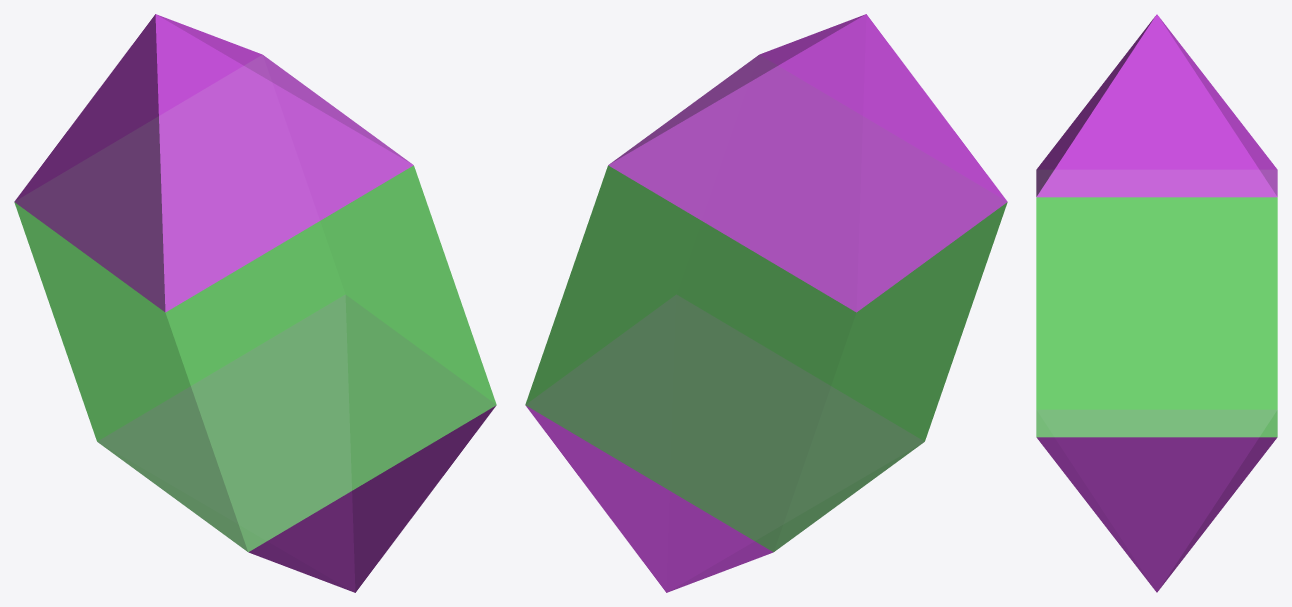
The model's file is j15_elongated_square_dipyramid.obj.
The picture shows the model from 3 angles, left to right: view 1: azimuth 30°, elevation 25°; view 2: azimuth 150°, elevation 25°; view 3: azimuth 270°, elevation 25°; orthographic projection. The views are drawn at different scales.
Size of the model in its own units: 1.34 by 2.43 by 1.06.
